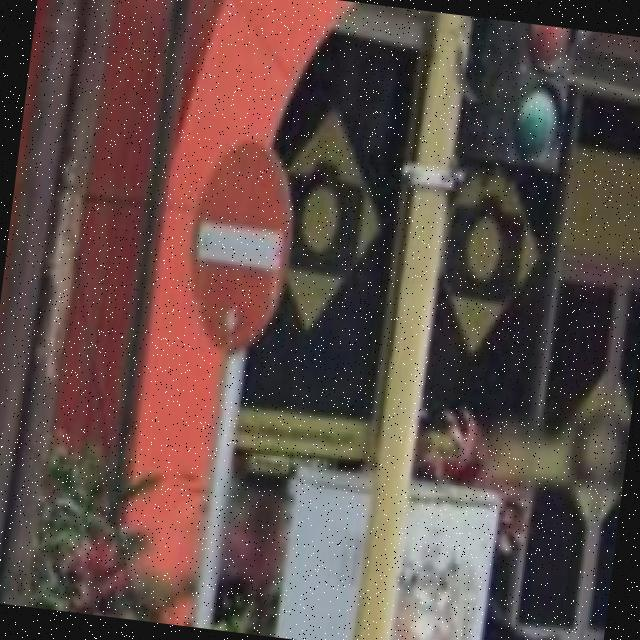Zakaz wjazdu: (179, 134, 302, 358)
